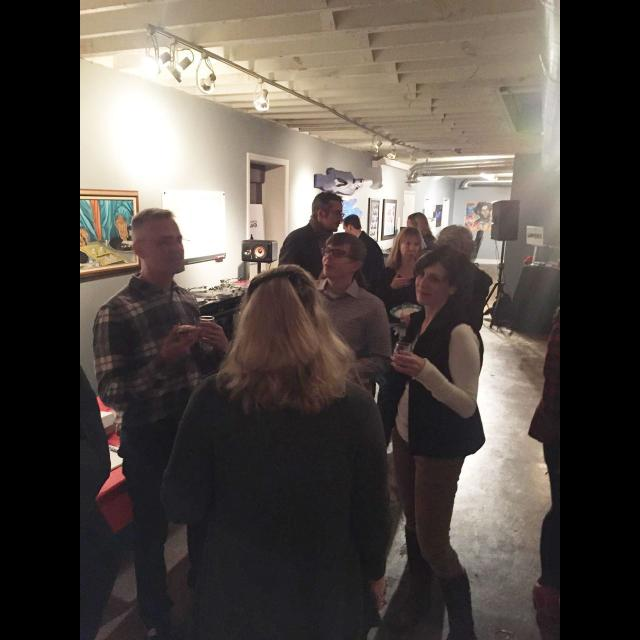head: (80, 228, 126, 640), (524, 255, 560, 637), (245, 267, 319, 357), (131, 208, 187, 276), (415, 248, 461, 306), (321, 233, 367, 279), (311, 191, 345, 233), (397, 228, 423, 262), (438, 225, 466, 255), (407, 212, 429, 240), (342, 214, 362, 236)
person: (264, 232, 396, 588), (388, 223, 496, 475), (272, 189, 364, 435), (364, 225, 448, 453), (336, 211, 392, 349), (398, 210, 447, 330)
